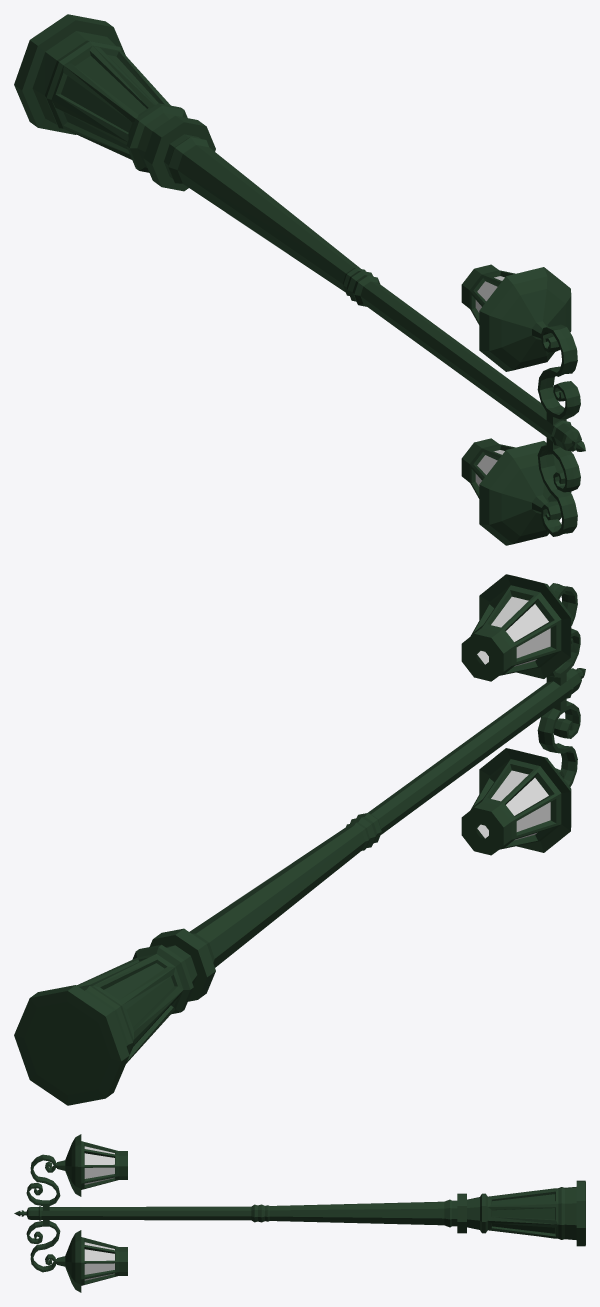
File: street-light-double.obj
The picture shows the model from 3 angles, top to bottom: view 1: azimuth 30°, elevation 25°; view 2: azimuth 150°, elevation 25°; view 3: azimuth 270°, elevation 25°; orthographic projection. The views are drawn at different scales.
Visible parts, largest first — view 1: street-light-double; view 2: street-light-double; view 3: street-light-double.
Part boxes in pixels (<box>): street-light-double: <box>14,14,585,545</box>; street-light-double: <box>14,574,585,1105</box>; street-light-double: <box>14,1134,585,1292</box>.
Bounding box in the file's own units: 31.6 × 75.76 × 264.
